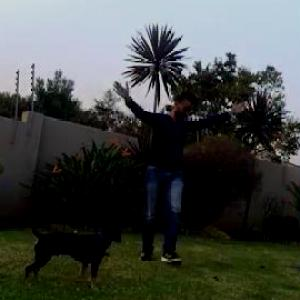takeoff: (127, 62, 270, 252)
